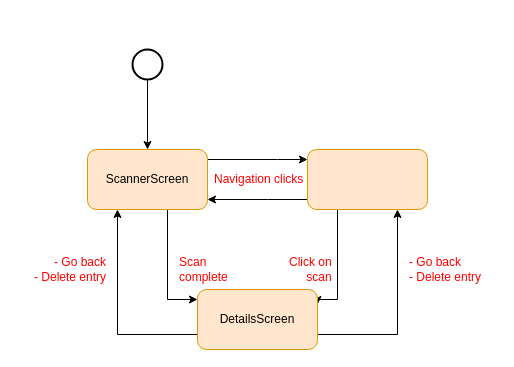
This 514x367 diagram has some shape labels left out. The centre of each missing label's shape, as x and y in pixels:
"Application launch" goes at (147,64).
"HistoryScreen" goes at (367,179).
